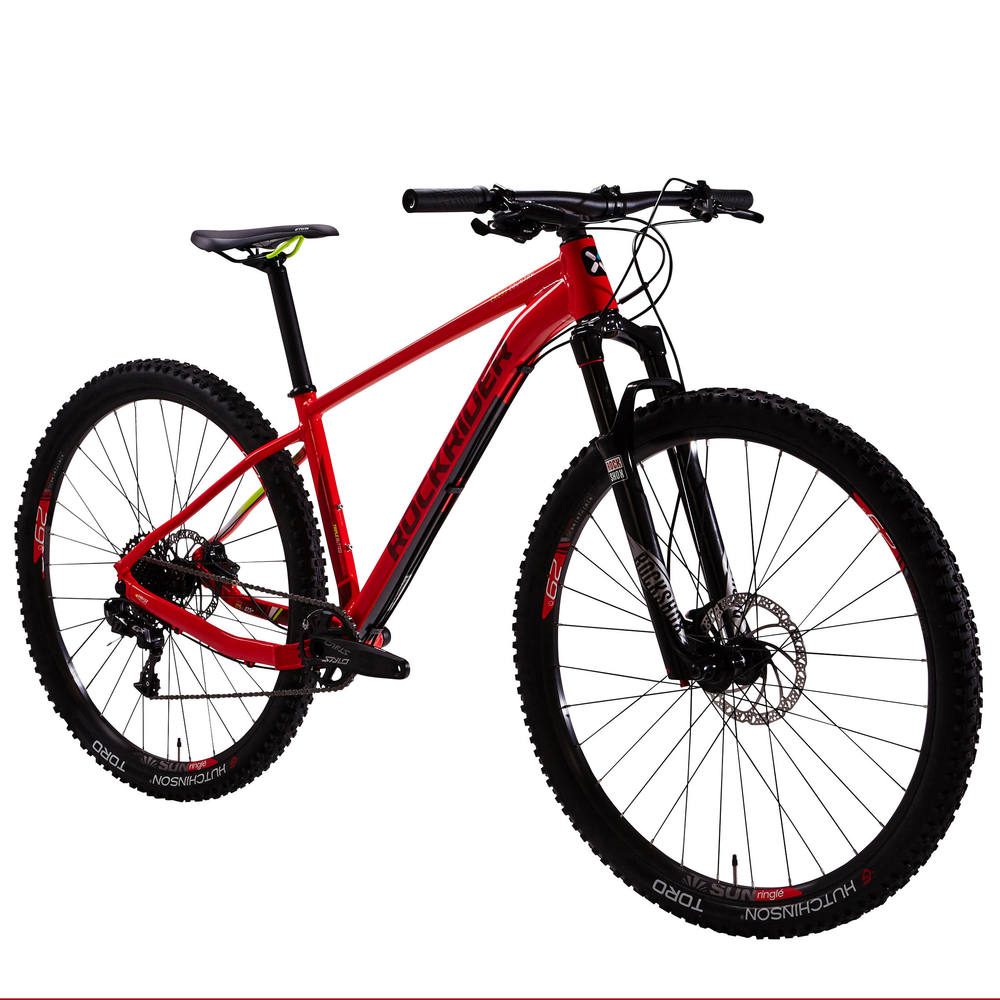RoadBike: (10, 59, 979, 915)
